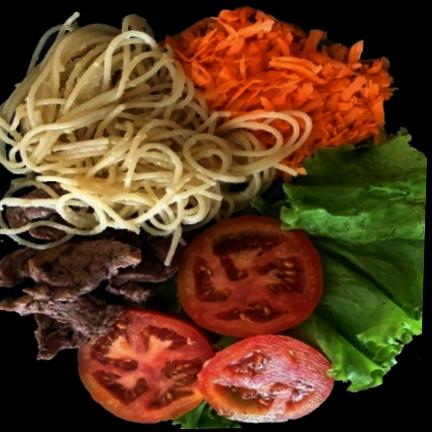carrot: (166, 6, 394, 170)
meat: (0, 232, 177, 358)
pasta: (0, 13, 310, 247)
salad: (252, 129, 426, 390)
tomato: (76, 215, 333, 422)
